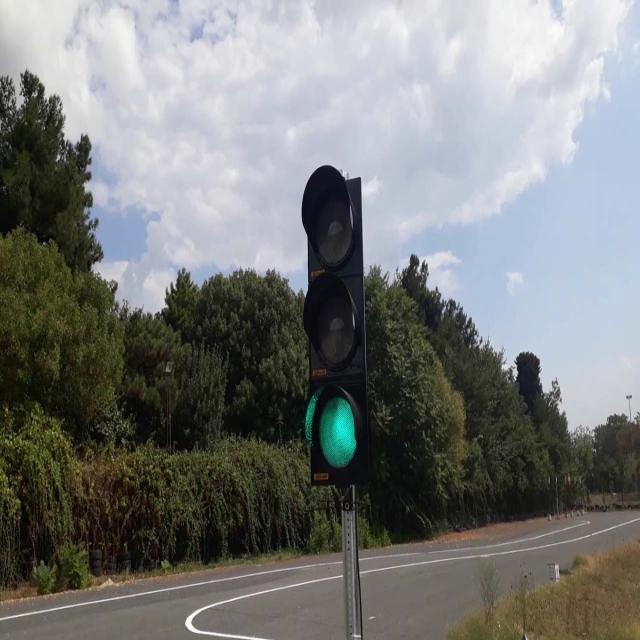yesil: (302, 162, 368, 482)
